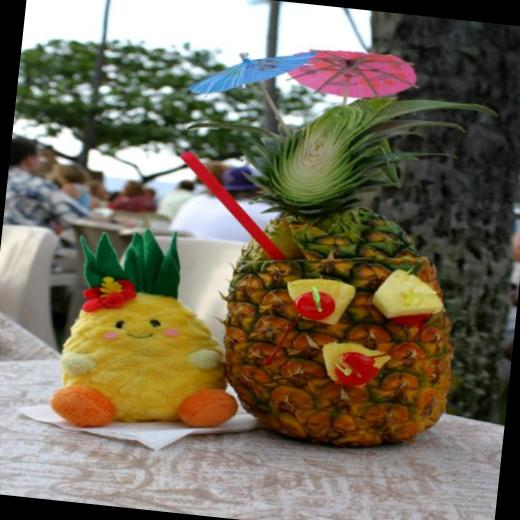Mango: (52, 222, 240, 433)
